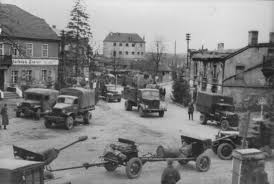Person: (161, 160, 180, 184), (1, 104, 9, 129), (188, 103, 194, 120)
Truck: (45, 87, 95, 130), (196, 92, 239, 130), (16, 88, 59, 120), (124, 88, 167, 117), (105, 84, 121, 102)
